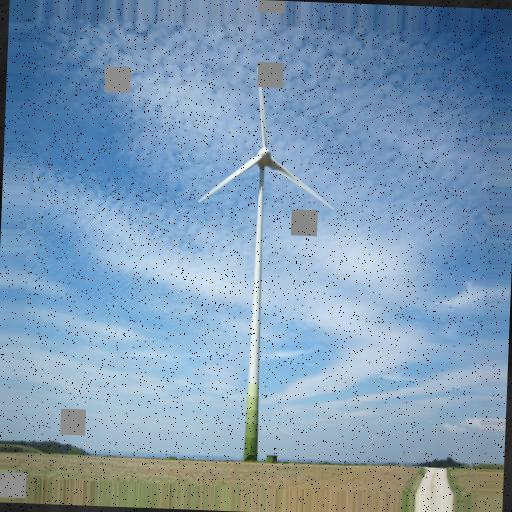wind turbine: (197, 65, 334, 462)
